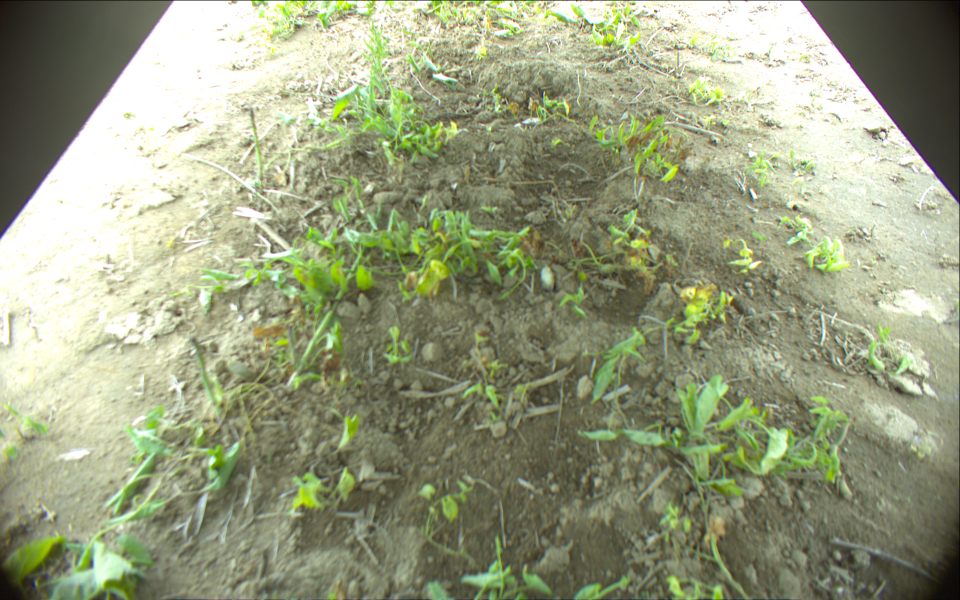aspa: (285, 247, 363, 389), (188, 335, 224, 419), (247, 109, 265, 197), (286, 322, 300, 369)
